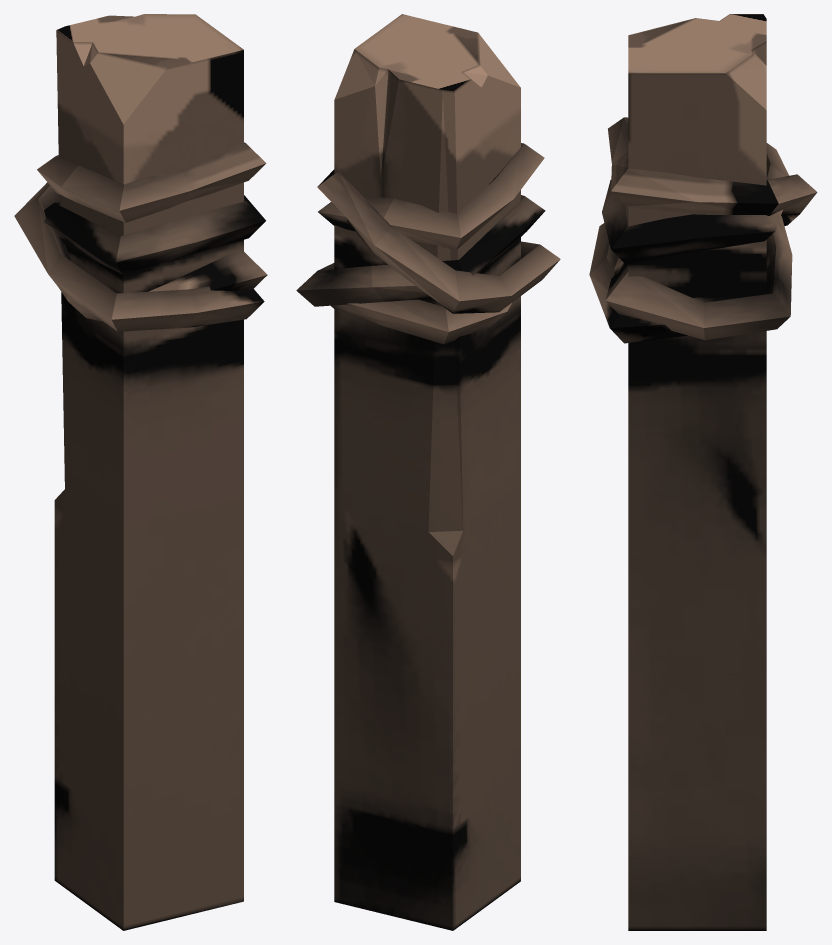
File: Bridge_Fence1.fbx
The picture shows the model from 3 angles, left to right: view 1: azimuth 30°, elevation 25°; view 2: azimuth 150°, elevation 25°; view 3: azimuth 270°, elevation 25°; orthographic projection. The views are drawn at different scales.
Visible parts, largest first — view 1: SM_Bridge_03_01c.mo; view 2: SM_Bridge_03_01c.mo; view 3: SM_Bridge_03_01c.mo.
Boxes of the visible parts, x1=… form: SM_Bridge_03_01c.mo: x1=14, y1=14, x2=267, y2=930; SM_Bridge_03_01c.mo: x1=296, y1=14, x2=560, y2=930; SM_Bridge_03_01c.mo: x1=589, y1=14, x2=817, y2=930.
Bounding box in the file's own units: 34.3 × 150 × 36.24.
Materials: 2 (2 with a texture image).
